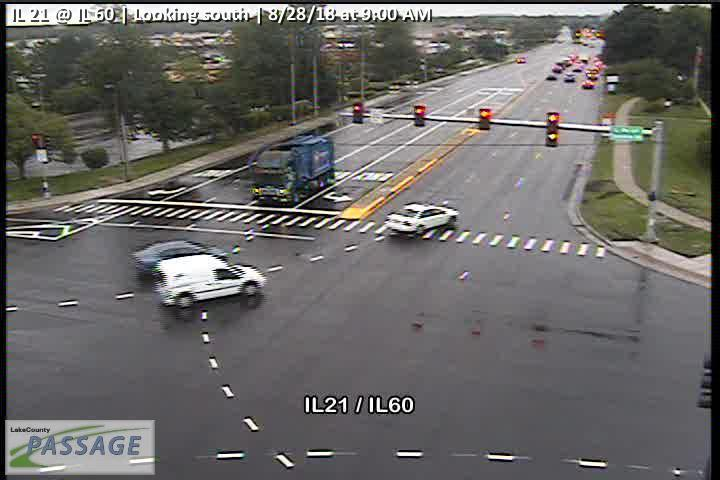SUV: (153, 254, 267, 308)
Sedan: (132, 239, 229, 276), (384, 202, 460, 236)
Truck: (248, 134, 336, 205)
